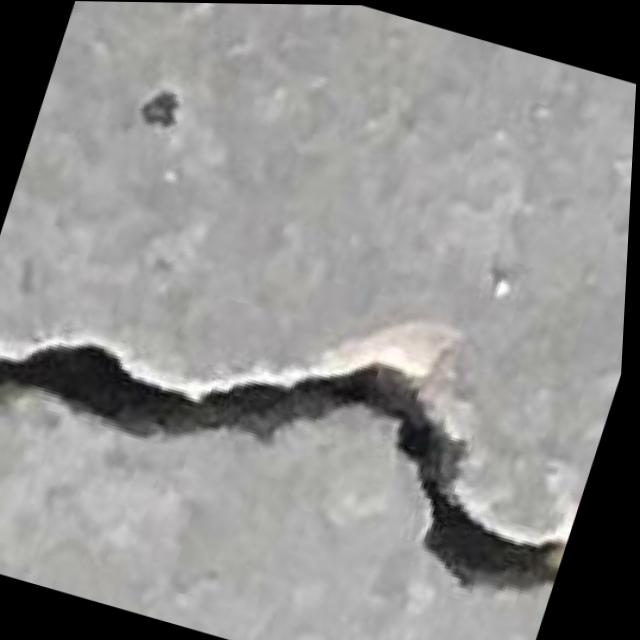Crack: (0, 214, 620, 628)
